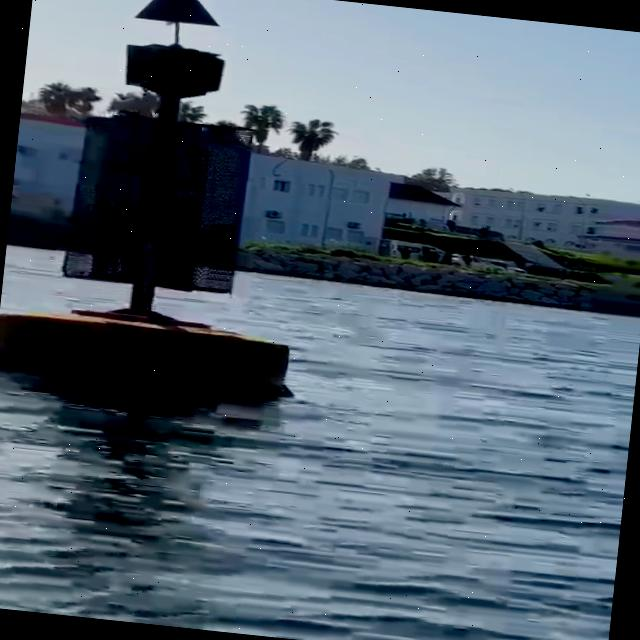marque: (1, 1, 317, 413)
